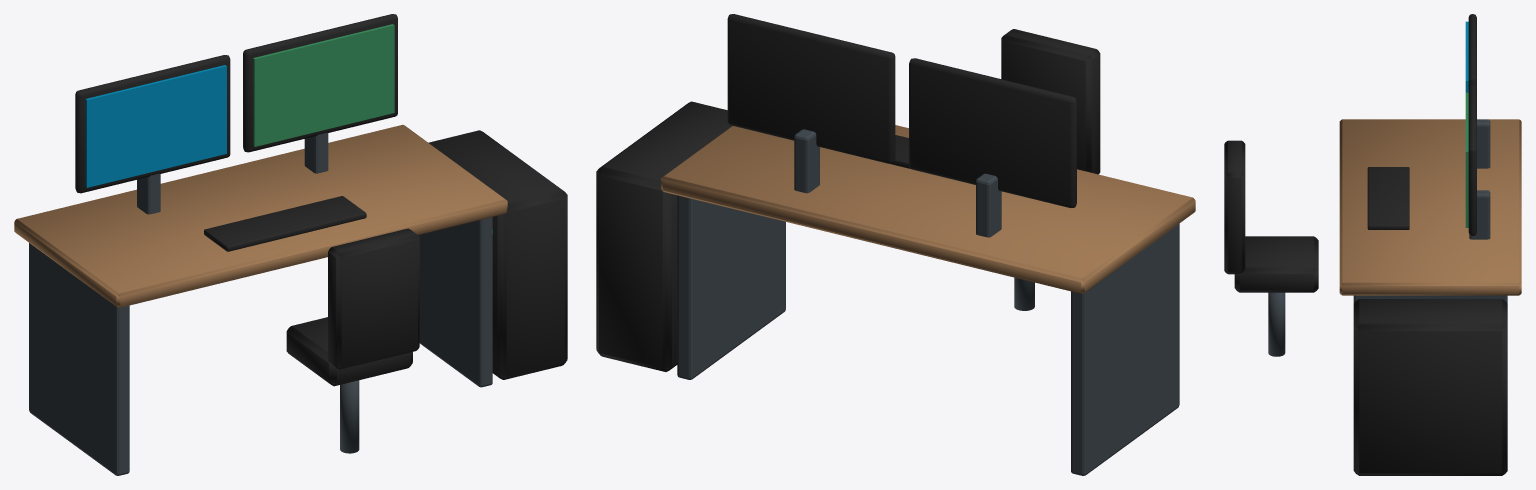
3 views of the same model, side by side, from view 1: azimuth 30°, elevation 25°; view 2: azimuth 150°, elevation 25°; view 3: azimuth 270°, elevation 25° (orthographic). The views are drawn at different scales.
Parts seen in each view (by area): view 1: m_pc; view 2: m_pc; view 3: m_pc.
Boxes of the visible parts, <box> form: m_pc: <box>14,14,567,475</box>; m_pc: <box>596,14,1195,475</box>; m_pc: <box>1224,14,1521,475</box>.
Size of the model in its own units: 0.66 by 0.45 by 0.425.
